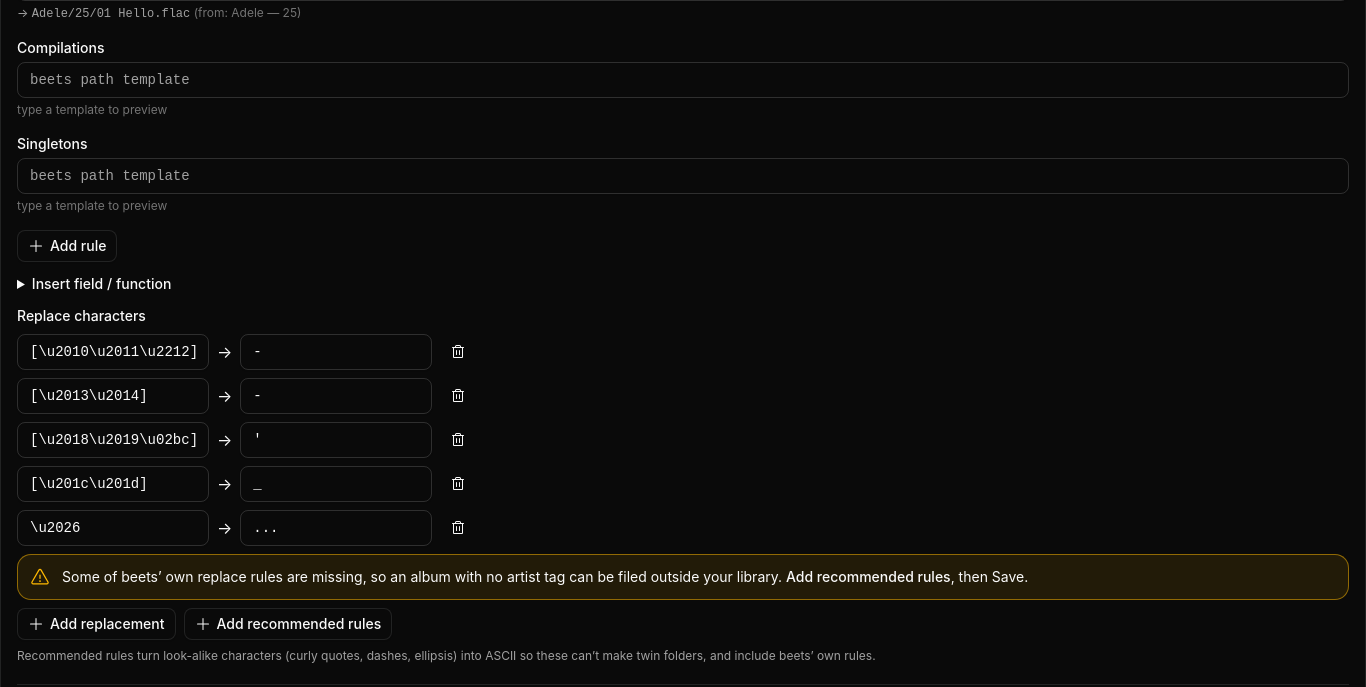
Add recommended rules on the old starter gives the new starter's block
(page scrolled)
Click the button "Add recommended rules": coordinates (288, 624) [184,608,392,640]
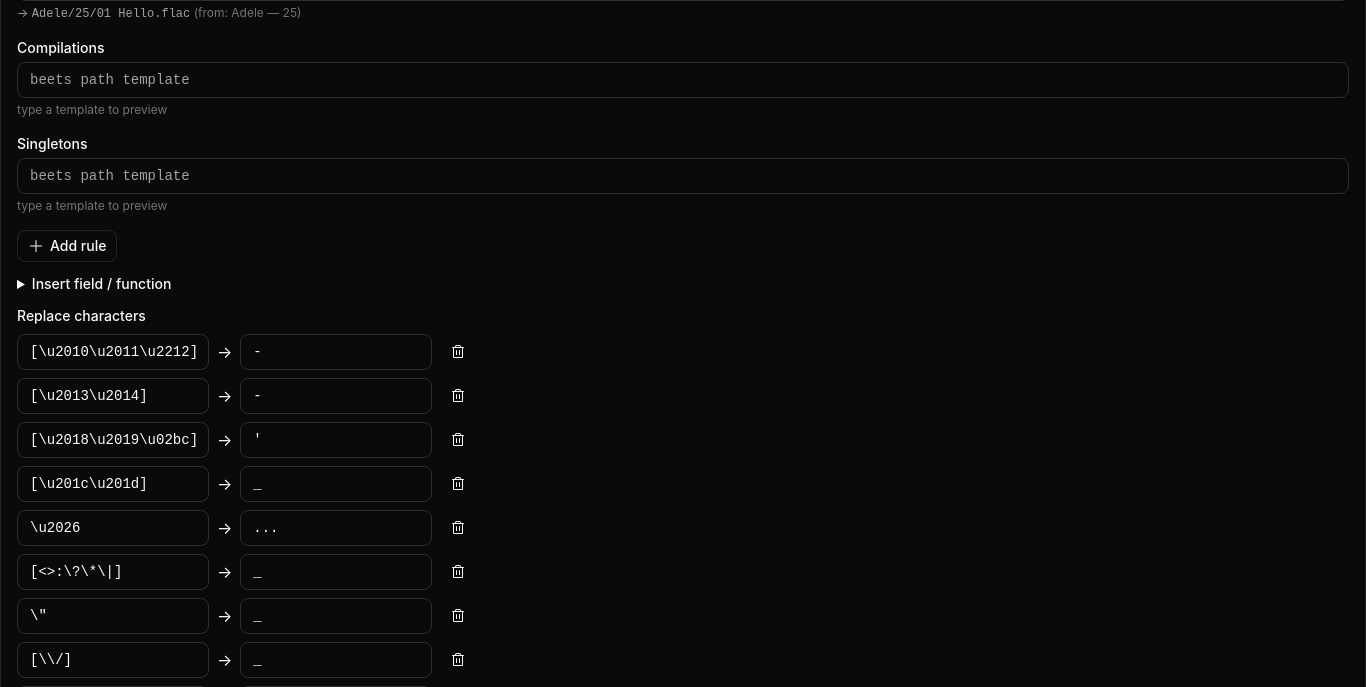
expect the text "beets’ own replace rules are missing" is gone: met
